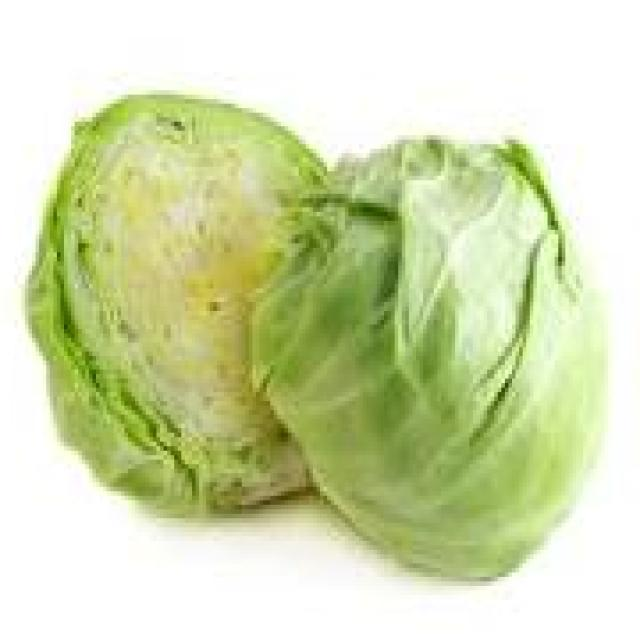cabbage: (36, 81, 622, 573)
